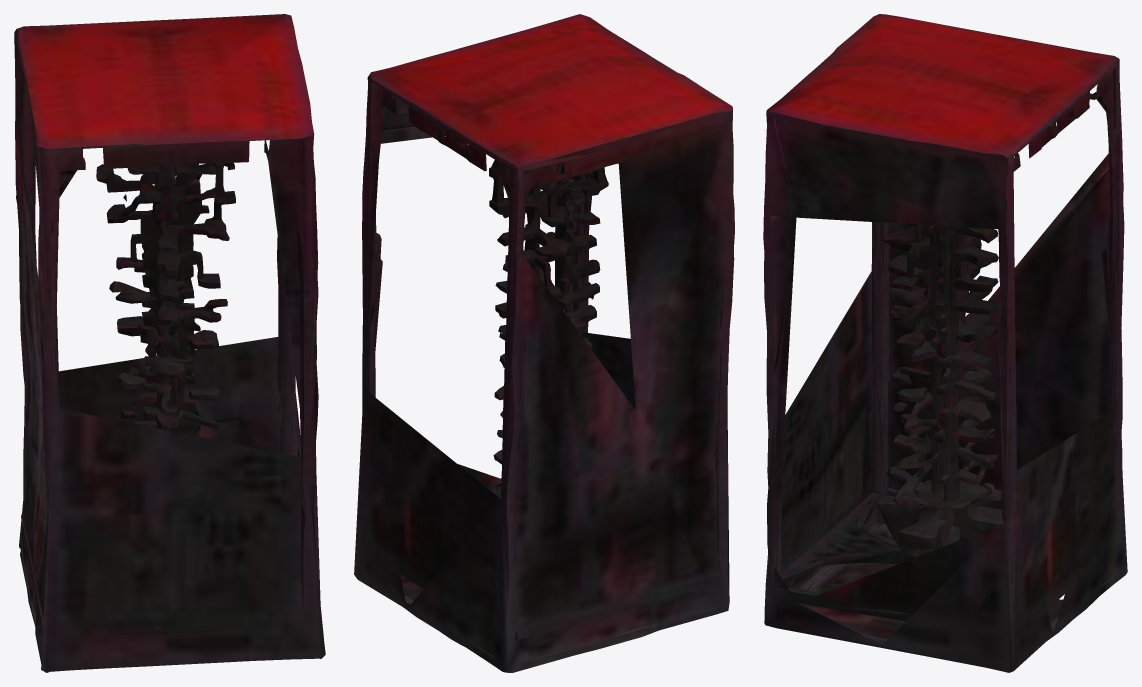
The picture shows the model from 3 angles, left to right: view 1: azimuth 30°, elevation 25°; view 2: azimuth 150°, elevation 25°; view 3: azimuth 270°, elevation 25°; orthographic projection. The views are drawn at different scales.
Visible parts, largest first — view 1: world; view 2: world; view 3: world.
Part boxes in pixels (x1,y1,x2,y2): world: [14, 14, 325, 672]; world: [354, 14, 734, 672]; world: [763, 14, 1127, 672].
Size of the model in its own units: 0.2029 by 0.3217 by 0.2006.
1 material, 1 textured.
